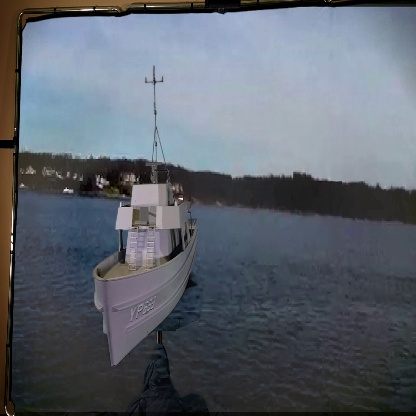YP689: (91, 65, 200, 369)
